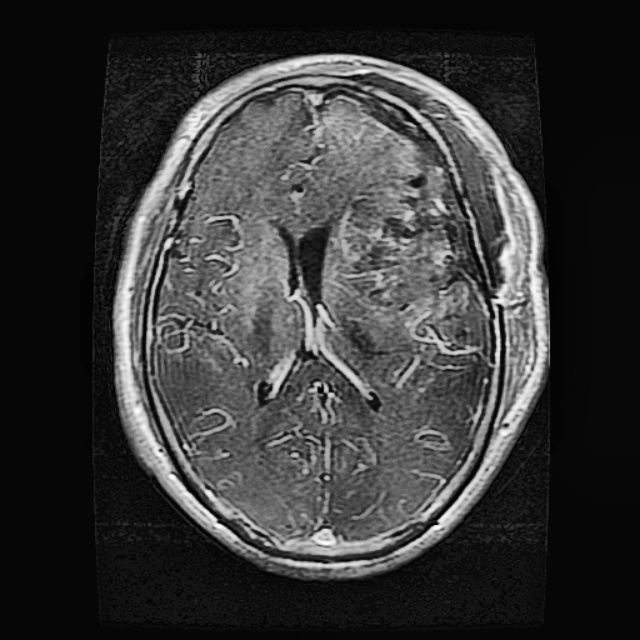Pituitary: (339, 114, 507, 343)
